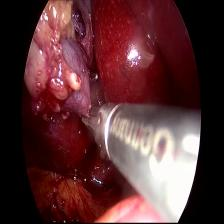Scissors: (75, 95, 122, 160)
